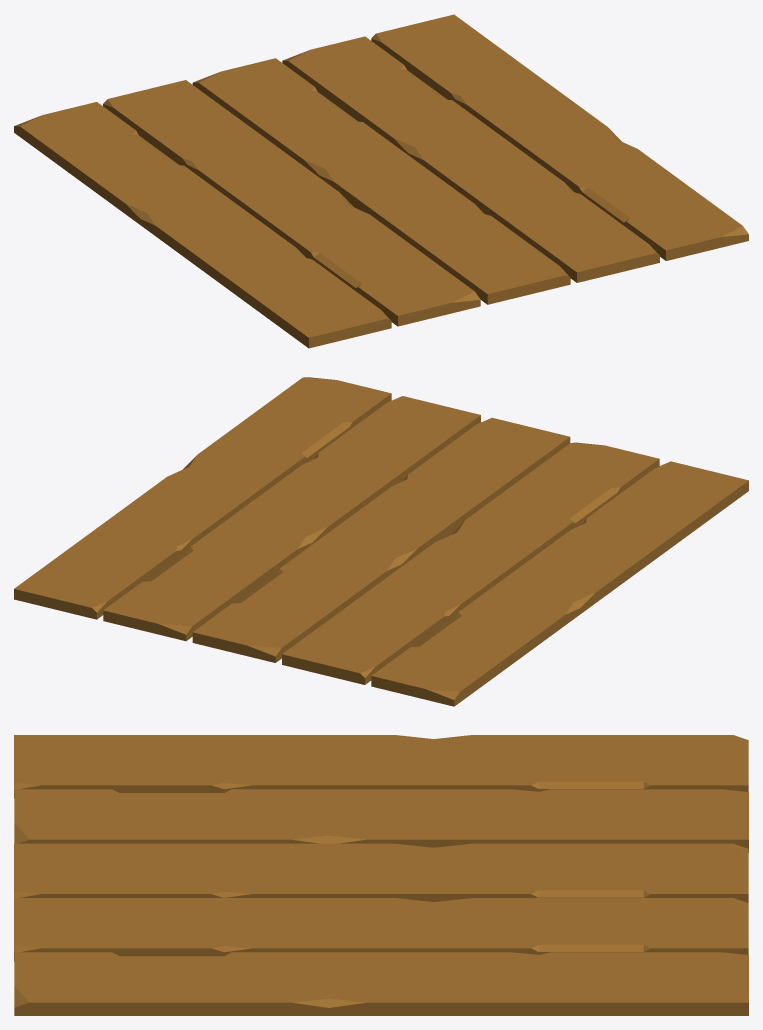
Rendered from planks.fbx.
3 views of the same model, one above another, from view 1: azimuth 30°, elevation 25°; view 2: azimuth 150°, elevation 25°; view 3: azimuth 270°, elevation 25° (orthographic). The views are drawn at different scales.
Visible parts, largest first — view 1: Cube.004; view 2: Cube.004; view 3: Cube.004.
Boxes of the visible parts, x1,y1,x2,y2 form: Cube.004: [14, 14, 748, 348]; Cube.004: [14, 377, 748, 706]; Cube.004: [14, 735, 748, 1015].
Size of the model in its own units: 1062 by 24.54 by 1232.
